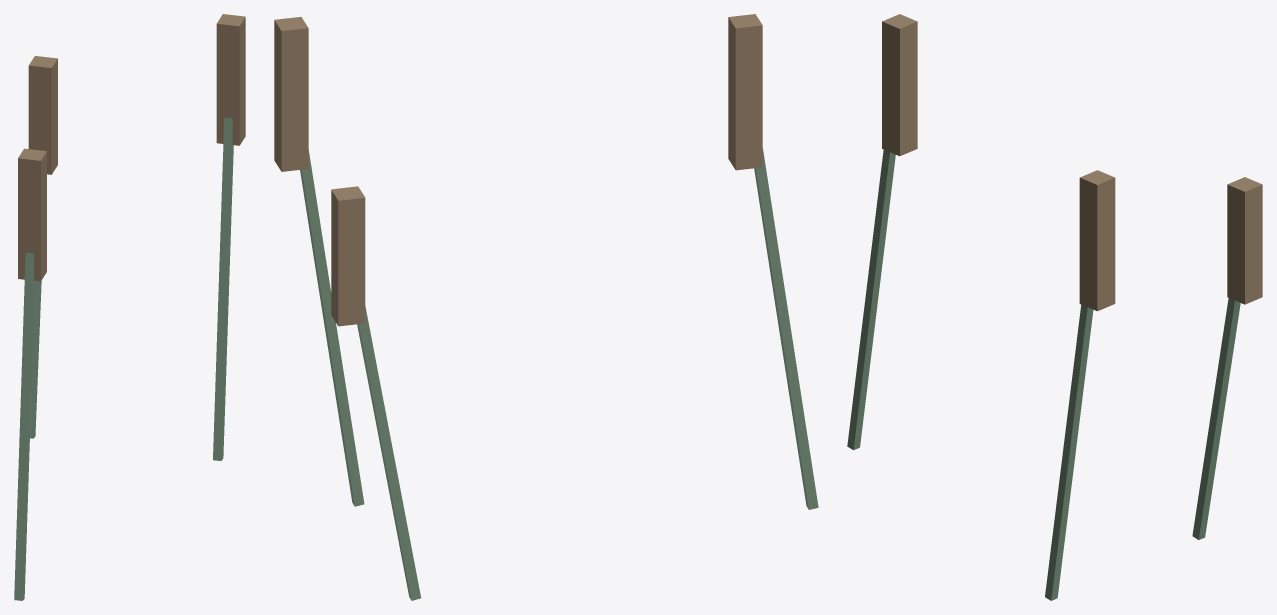
3 views of the same model, side by side, from view 1: azimuth 30°, elevation 25°; view 2: azimuth 150°, elevation 25°; view 3: azimuth 270°, elevation 25° (orthographic). The views are drawn at different scales.
Bounding box in the file's own units: 1.19 × 1.38 × 1.17.
